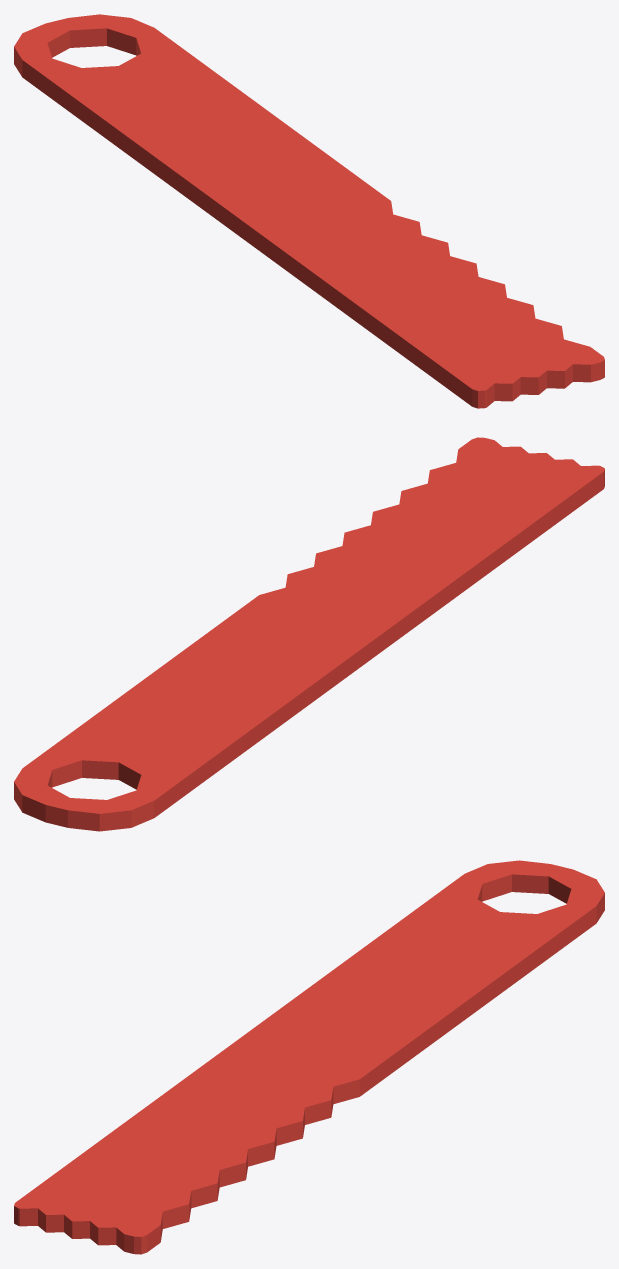
Rendered from flintSaw.fbx.
3 views of the same model, one above another, from view 1: azimuth 30°, elevation 25°; view 2: azimuth 150°, elevation 25°; view 3: azimuth 330°, elevation 25° (orthographic).
Visible parts, largest first — view 1: Saw; view 2: Saw; view 3: Saw.
Boxes of the visible parts, left/top/right/bottom form: Saw: left=14, top=14, right=604, bottom=408; Saw: left=14, top=437, right=604, bottom=831; Saw: left=14, top=860, right=604, bottom=1254.
Size of the model in its own units: 3.14 by 0.4 by 20.
